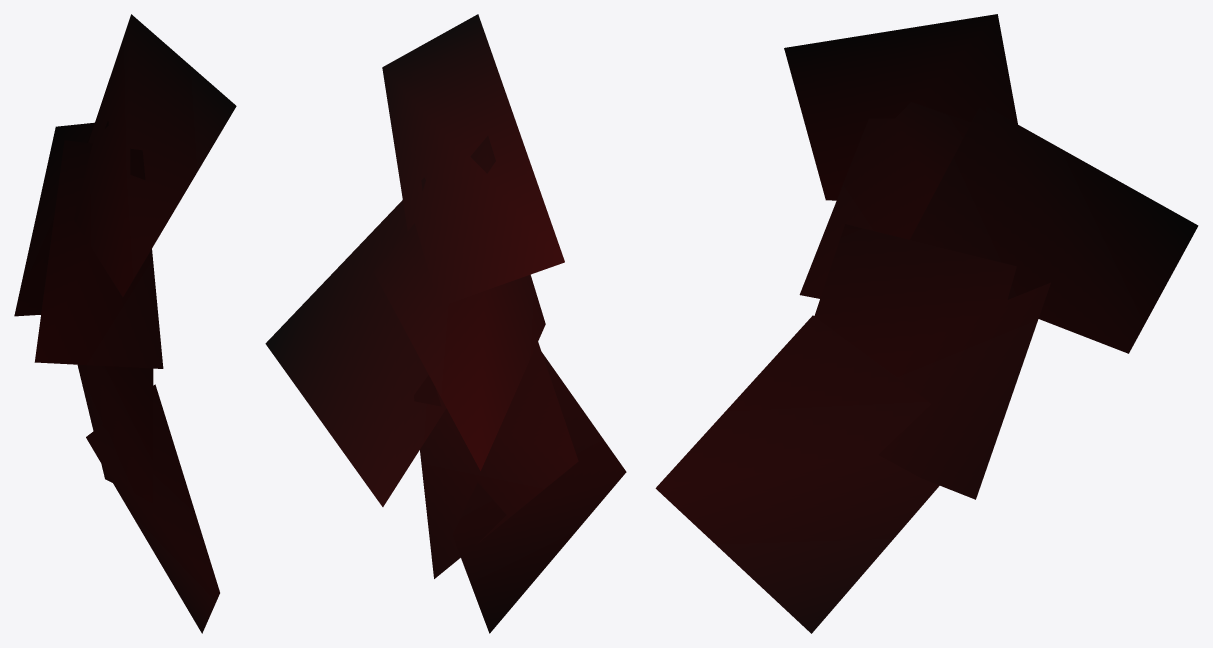
File: TGV_Ivy_04B.fbx
3 renders of one model, left to right at view 1: azimuth 30°, elevation 25°; view 2: azimuth 150°, elevation 25°; view 3: azimuth 270°, elevation 25°, orthographic. The views are drawn at different scales.
Parts seen in each view (by area): view 1: TGV_Ivy__04B_LOD1; view 2: TGV_Ivy__04B_LOD1; view 3: TGV_Ivy__04B_LOD1.
Boxes of the visible parts, x1=… form: TGV_Ivy__04B_LOD1: x1=14, y1=14, x2=236, y2=633; TGV_Ivy__04B_LOD1: x1=265, y1=14, x2=626, y2=633; TGV_Ivy__04B_LOD1: x1=655, y1=14, x2=1198, y2=633.
Bounding box in the file's own units: 18.27 × 92.27 × 72.51.
